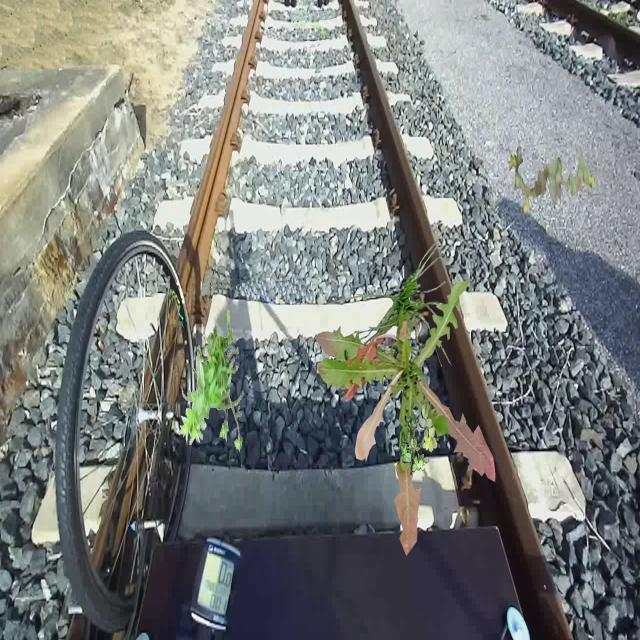Plant: (316, 279, 496, 557), (335, 232, 453, 396), (179, 309, 244, 452), (509, 145, 596, 214), (400, 402, 438, 476)
